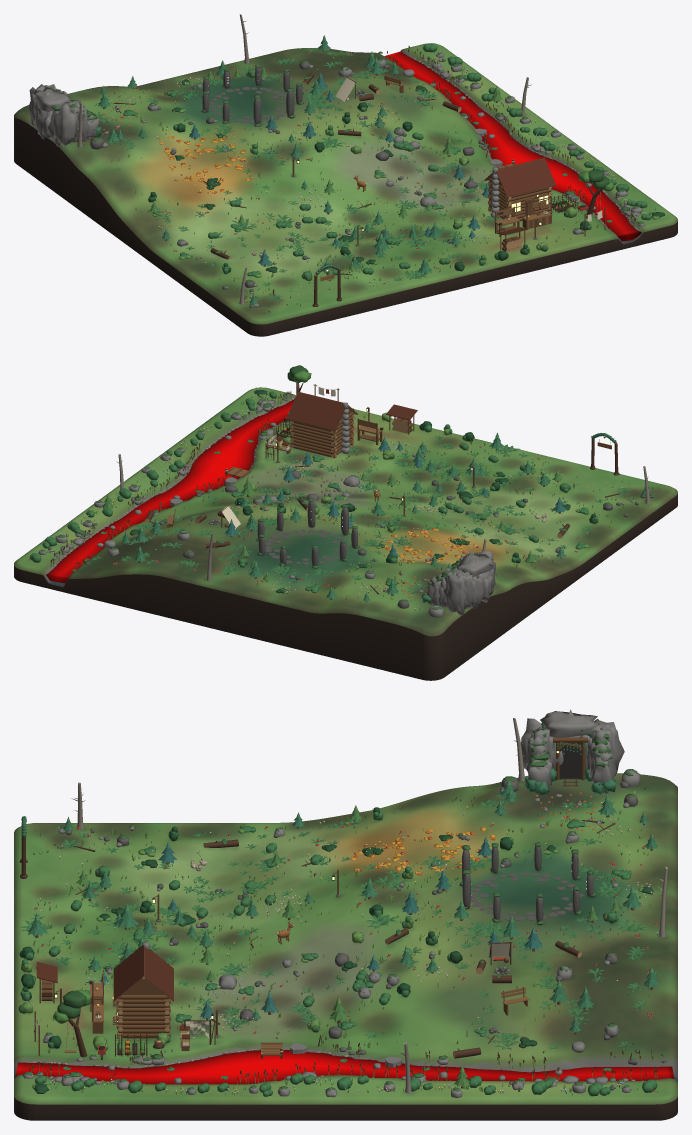
The model's file is forest.glb.
The picture shows the model from 3 angles, top to bottom: view 1: azimuth 30°, elevation 25°; view 2: azimuth 150°, elevation 25°; view 3: azimuth 270°, elevation 25°; orthographic projection. The views are drawn at different scales.
Parts seen in each view (by area): view 1: Forest_Ground, Forest_Static, Forest_Pines, Forest_Water; view 2: Forest_Ground, Forest_Static, Forest_Water, Forest_Pines; view 3: Forest_Ground, Forest_Static, Forest_Water, Forest_Pines.
Part boxes in pixels (<box>): Forest_Ground: <box>14,43,677,336</box>; Forest_Static: <box>28,43,664,313</box>; Forest_Pines: <box>77,14,531,304</box>; Forest_Water: <box>384,51,641,241</box>; Forest_Ground: <box>14,387,677,680</box>; Forest_Static: <box>27,365,659,617</box>; Forest_Water: <box>46,399,294,583</box>; Forest_Pines: <box>102,432,650,602</box>; Forest_Ground: <box>14,773,677,1120</box>; Forest_Static: <box>18,709,667,1098</box>; Forest_Water: <box>15,1050,674,1084</box>; Forest_Pines: <box>27,718,667,1093</box>.
Size of the model in its own units: 34.89 by 9.37 by 34.
